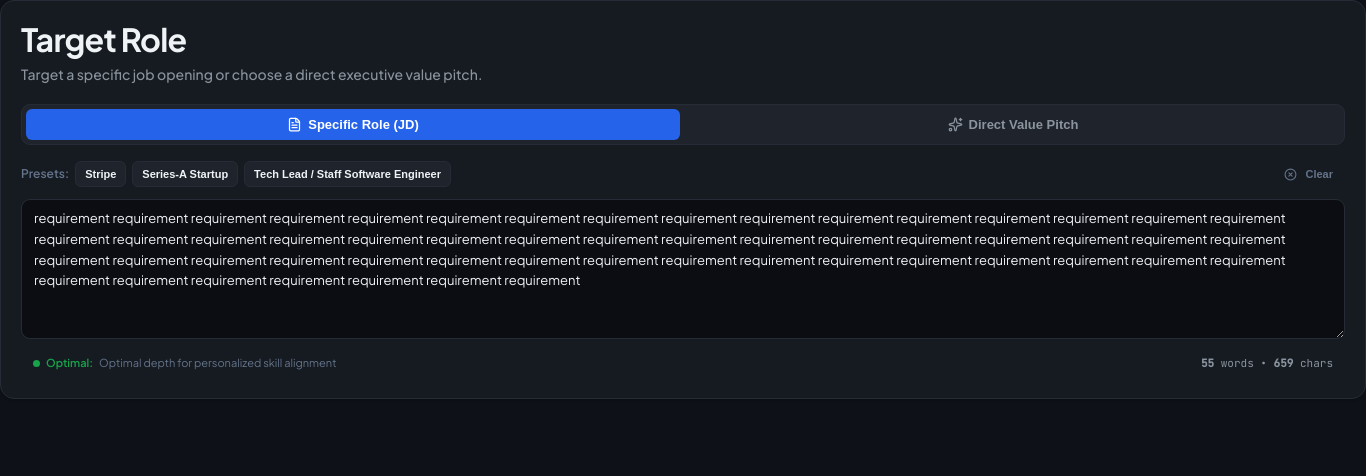
it: JobDescriptionInput Component (M1) › Clear Button Safeguard Logic › displays safeguard confirmation banner when wordCount > 50 words
The width and height of the screenshot is (1366, 476).
Click the button "Clear" at (1309, 174), box x1=1272 y1=161 x2=1345 y2=187
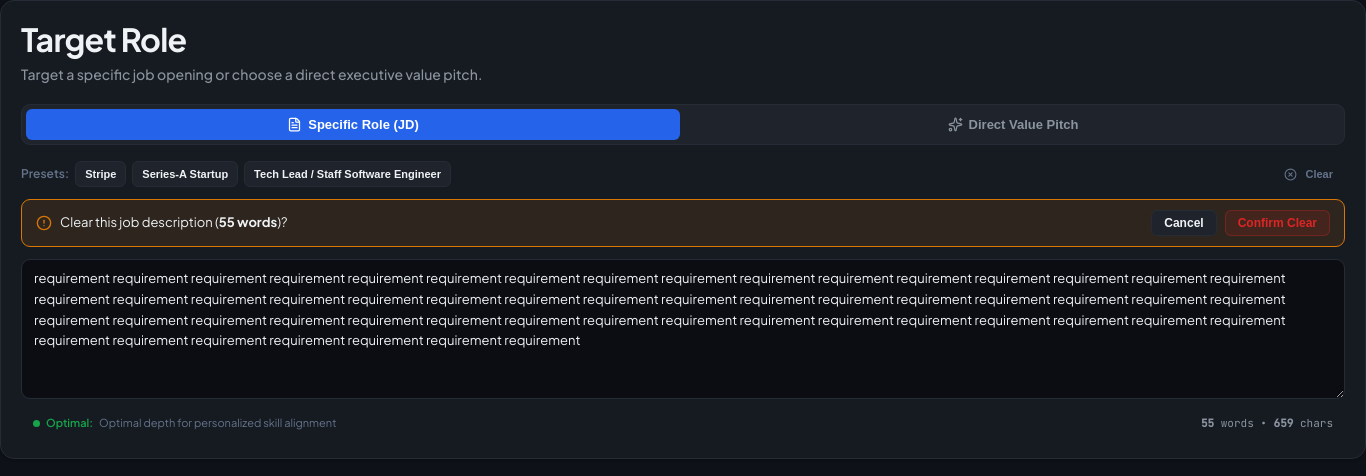
Expected: the text "55 words" is shown, x1=219 y1=214 x2=277 y2=230
Expected: the button "Cancel" is shown, x1=1151 y1=210 x2=1217 y2=236
Expected: the button "Confirm Clear" is shown, x1=1225 y1=210 x2=1330 y2=236
